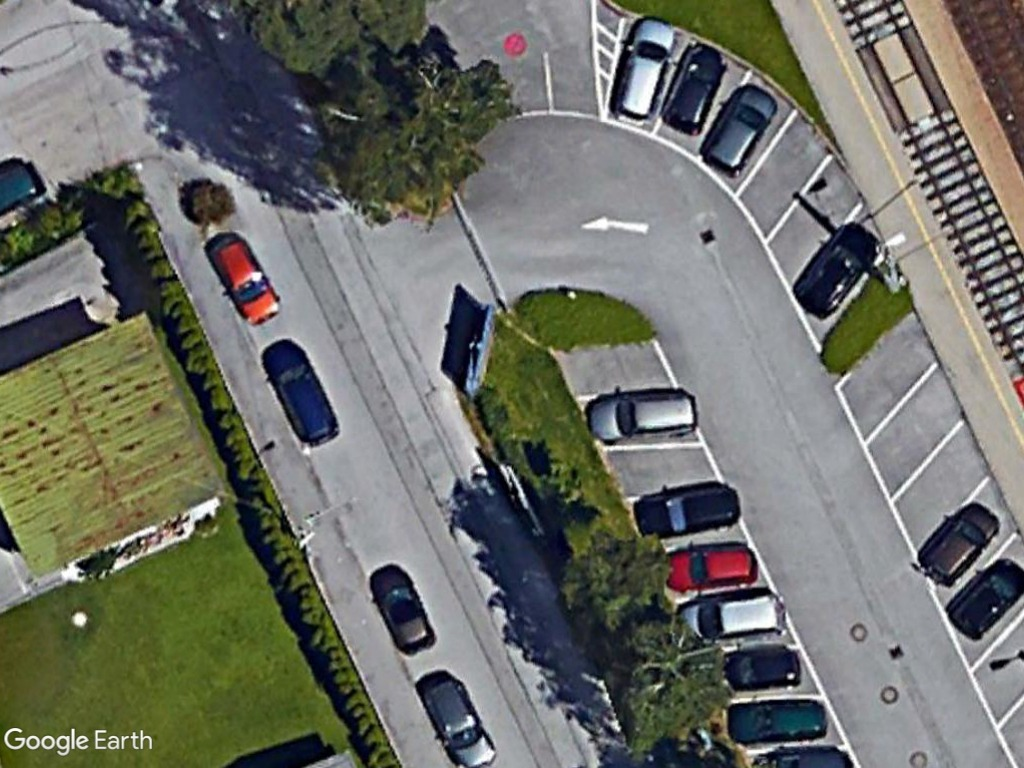car: (793, 217, 883, 322), (257, 337, 342, 446), (913, 493, 1002, 592), (609, 11, 677, 128), (701, 77, 778, 178), (201, 232, 281, 329), (414, 676, 498, 768), (632, 474, 742, 543), (674, 585, 791, 649), (577, 389, 704, 445), (946, 551, 1024, 639), (368, 559, 436, 657), (663, 39, 728, 135), (657, 538, 761, 595)
